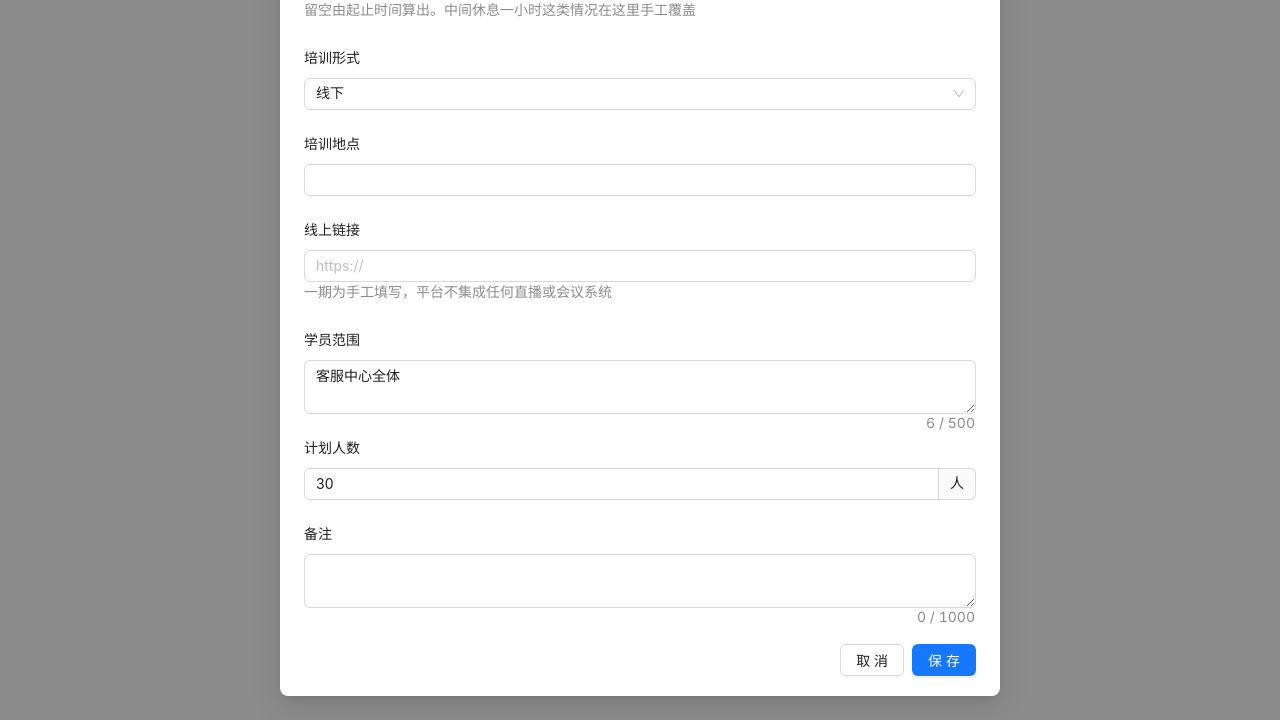
Test: 培训场次表单的条件必填 › 线下场次：培训地点必填，线上链接不必填
(page scrolled)
What coordinates should you click on to do the following:
click the button "保 存"
I would click on:
 (944, 660)
Its box is [912,644,976,676].
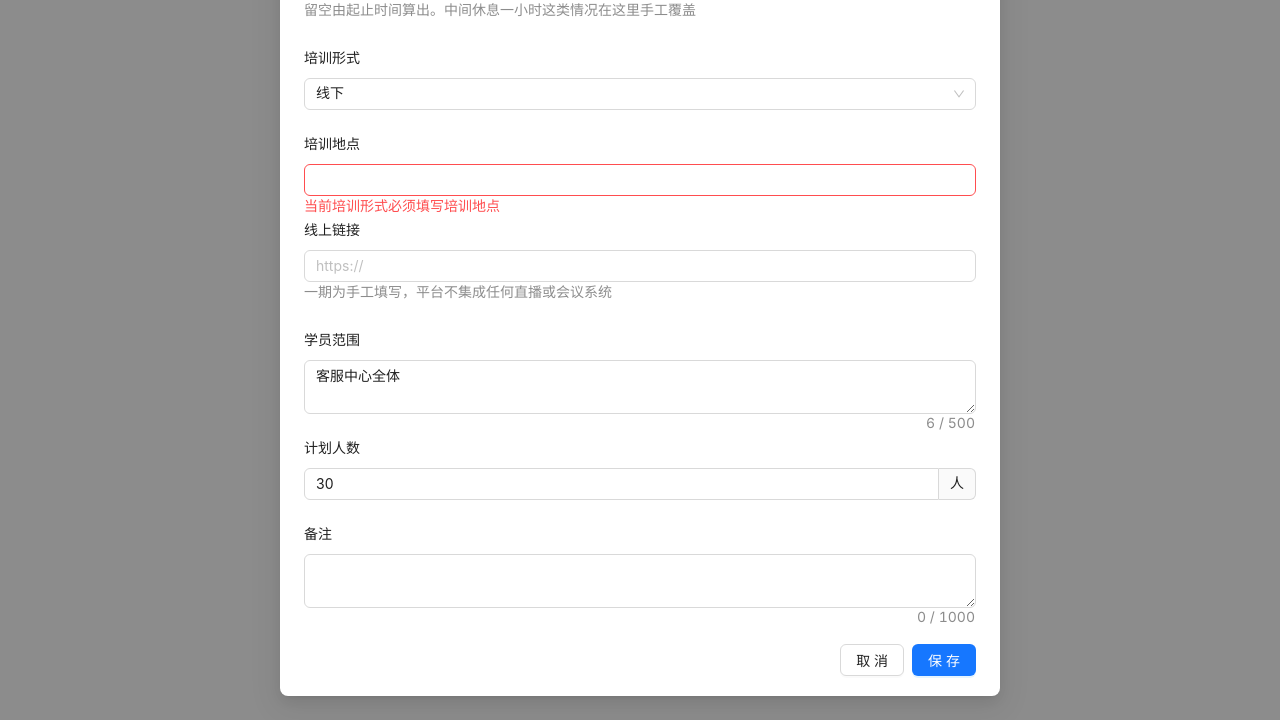
Check: the text "当前培训形式必须填写培训地点" is shown, box [304,198,500,215]
